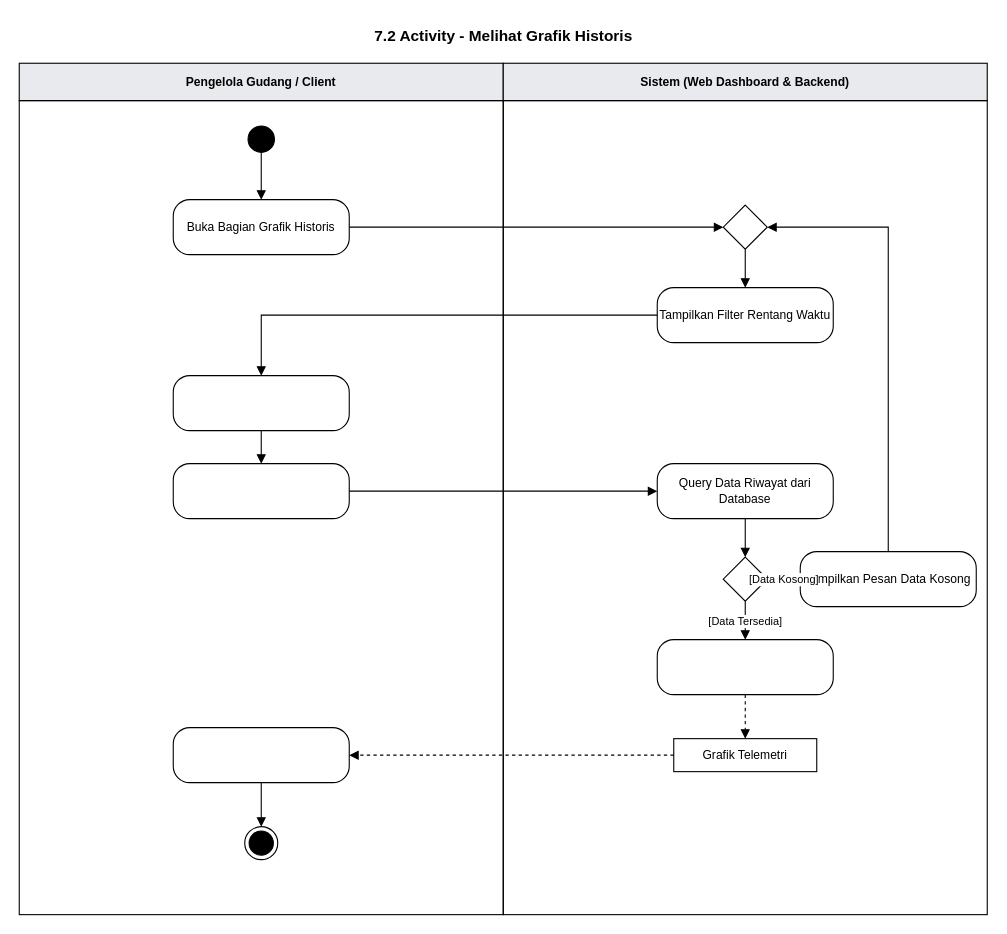
Image size: 1007x934. Some labels were removed from this diagram. The shapes that lost their labels are listed below. From the top down, each one's box as (x1, y1, x2, y2) in pixels, then its label:
(172, 375, 349, 431): Pilih Periode (24 Jam / Harian / Mingguan)
(172, 463, 349, 519): Klik Tampilkan Grafik
(656, 639, 833, 695): Render Grafik Tren Suhu & Kelembapan
(172, 727, 349, 783): Analisis Tren Kondisi Gudang
